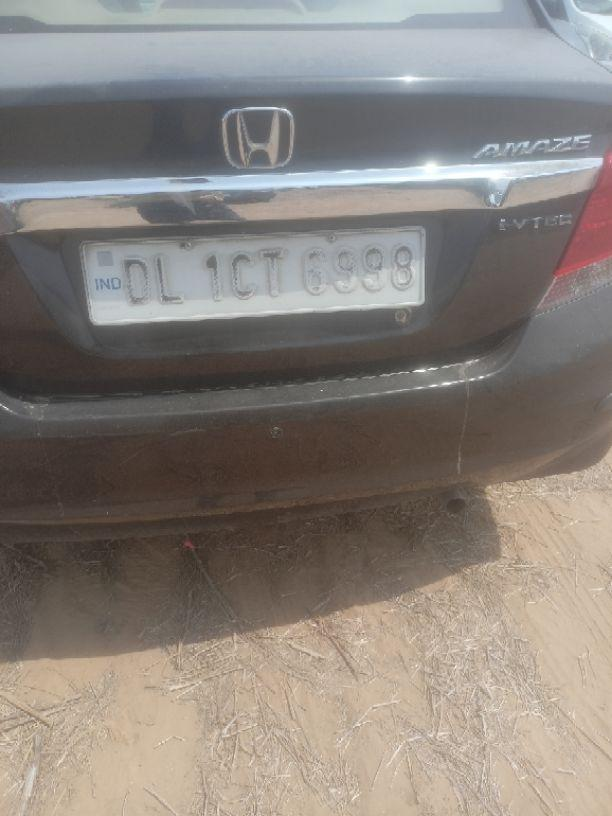license_plate: (76, 223, 428, 328)
